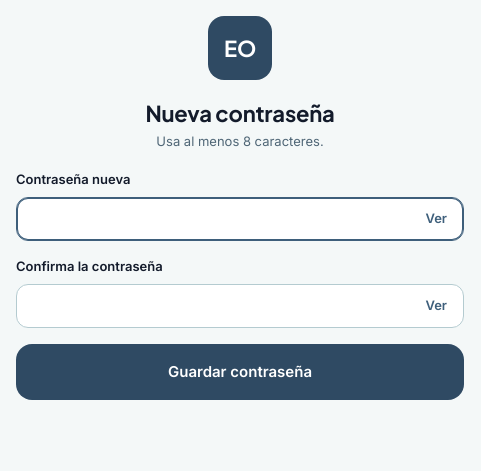
Scenario: restablecer contraseña (HU07-E3) › exige que las contraseñas coincidan y tengan 8 caracteres
This screenshot has width=481, height=471.
In the password field labelled "Contraseña nueva": x=213, y=219 [17,198,409,240], type "corta"
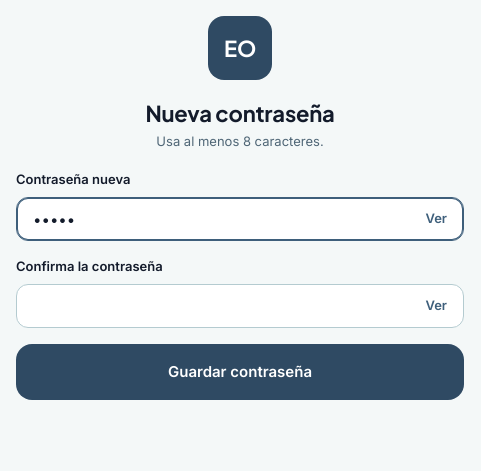
In the password field labelled "Confirma la contraseña": x=213, y=306 [17,285,409,327], type "otra"
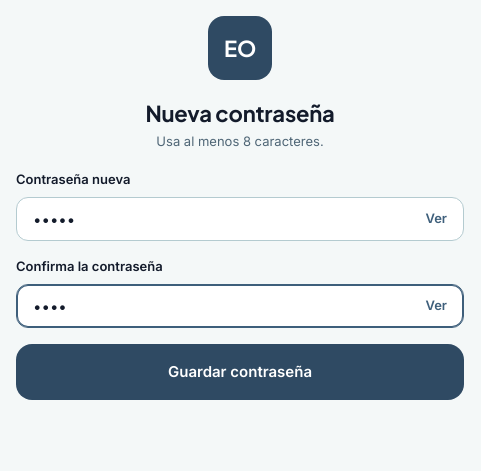
Click the button "Guardar contraseña": x=240, y=372 [16,344,464,400]
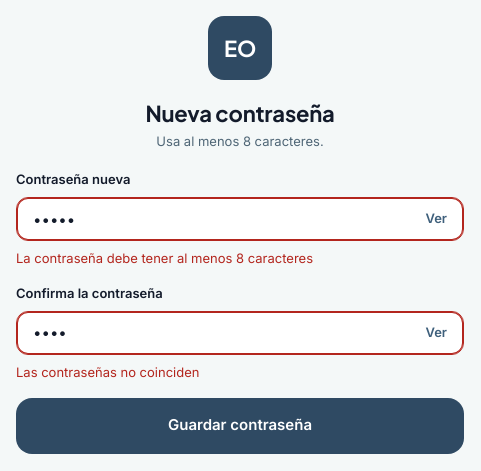
Check: the text "La contraseña debe tener al menos 8 caracteres" is shown, box [16,250,313,266]
